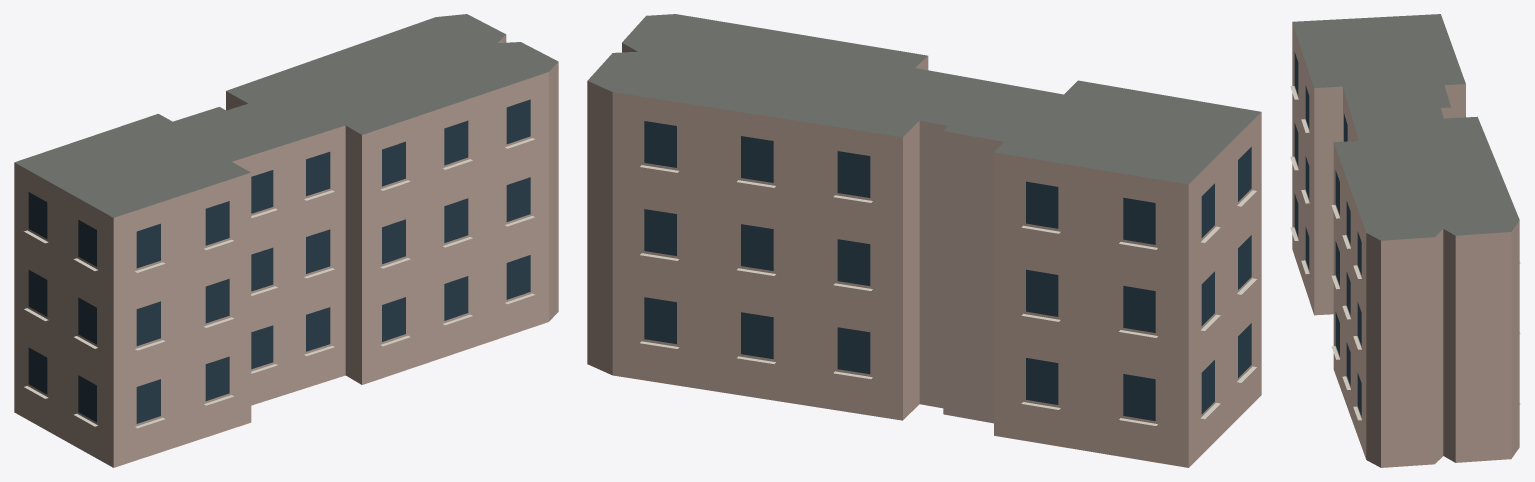
3 renders of one model, left to right at view 1: azimuth 30°, elevation 25°; view 2: azimuth 150°, elevation 25°; view 3: azimuth 270°, elevation 25°, orthographic. The views are drawn at different scales.
Parts seen in each view (by area): view 1: Footprint 0, Inferred window bays, Window sills; view 2: Footprint 0, Inferred window bays, Window sills; view 3: Footprint 0, Inferred window bays, Window sills.
Boxes of the visible parts, box(x1,y1,x2,y2) form: Footprint 0: box(14, 14, 558, 467); Inferred window bays: box(28, 99, 530, 423); Window sills: box(24, 138, 534, 428); Footprint 0: box(587, 14, 1261, 467); Inferred window bays: box(644, 121, 1251, 420); Window sills: box(640, 165, 1256, 425); Footprint 0: box(1292, 14, 1519, 467); Inferred window bays: box(1294, 52, 1361, 416); Window sills: box(1290, 86, 1520, 420).
Bounding box in the file's own units: 23.97 × 11.14 × 10.24.
